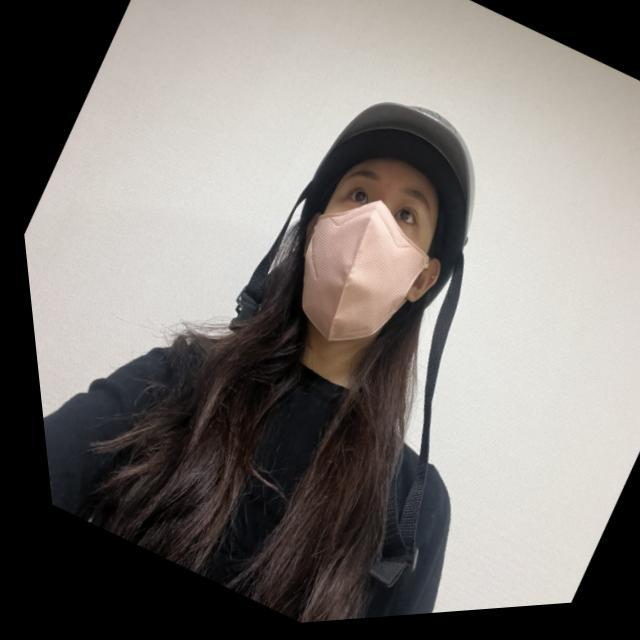Helmet: (249, 91, 486, 369)
